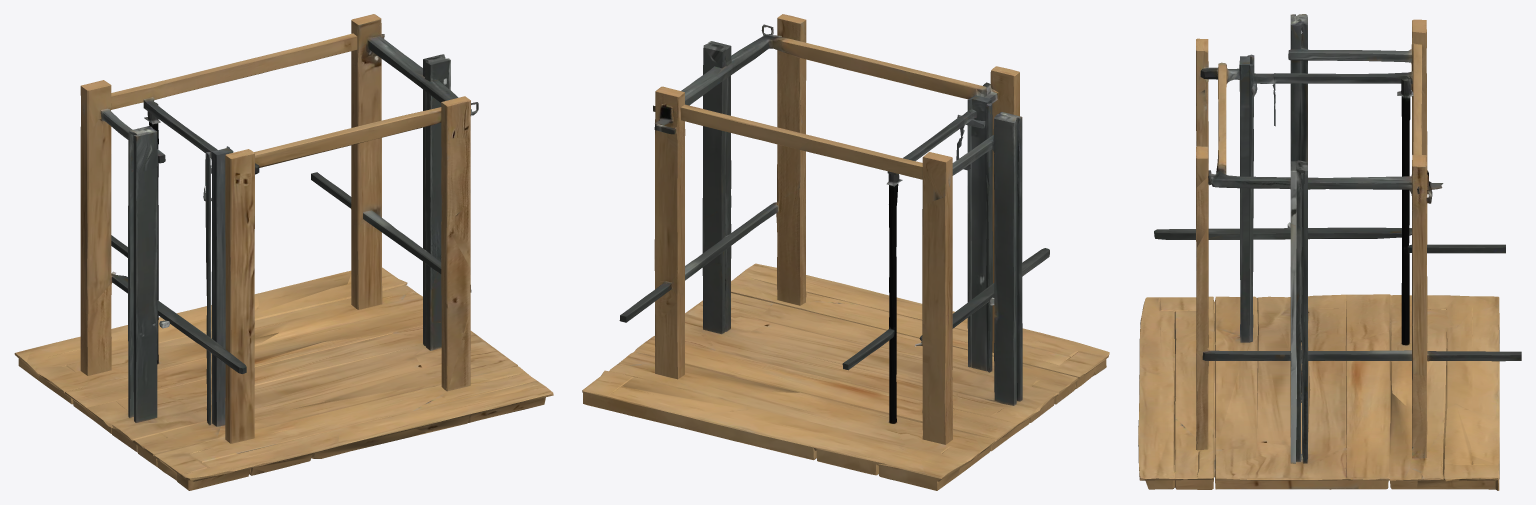
Rendered from calisthenics.glb.
3 views of the same model, side by side, from view 1: azimuth 30°, elevation 25°; view 2: azimuth 150°, elevation 25°; view 3: azimuth 270°, elevation 25° (orthographic). The views are drawn at different scales.
Visible parts, largest first — view 1: model; view 2: model; view 3: model.
Boxes of the visible parts, x1,y1,x2,y2 form: model: (14,14,553,490); model: (582,14,1109,490); model: (1138,14,1521,490).
Bounding box in the file's own units: 1.9 × 1.48 × 1.67.
1 material, 1 textured.
